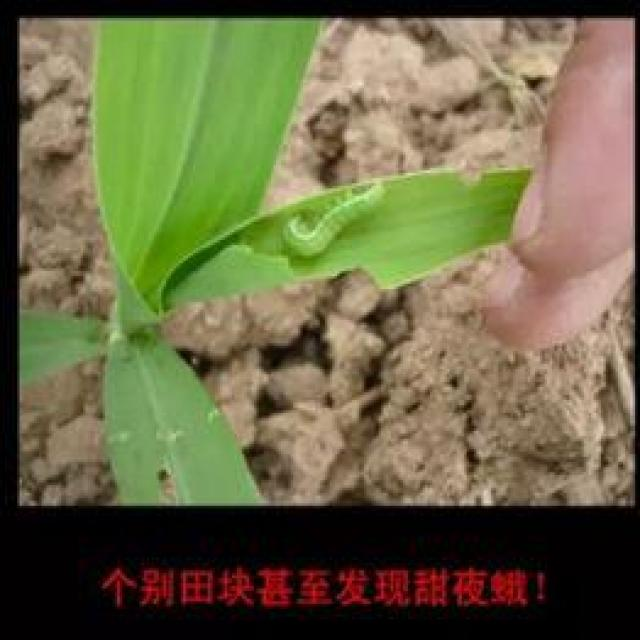BeetArmyWorm-Larva-: (282, 180, 392, 264)
